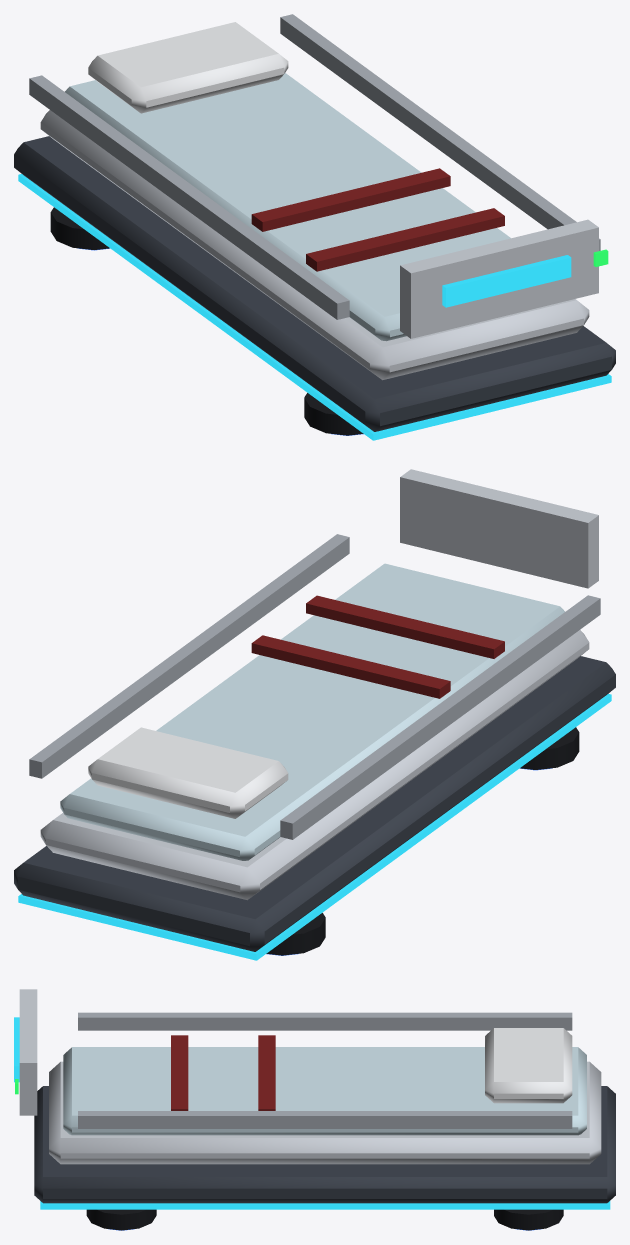
File: medsupply_hover_stretcher.glb
The picture shows the model from 3 angles, top to bottom: view 1: azimuth 30°, elevation 25°; view 2: azimuth 150°, elevation 25°; view 3: azimuth 270°, elevation 25°; orthographic projection. The views are drawn at different scales.
Parts seen in each view (by area): view 1: medsupply_hover_stretcher; view 2: medsupply_hover_stretcher; view 3: medsupply_hover_stretcher.
Part boxes in pixels (x1,y1,x2,y2): medsupply_hover_stretcher: [14, 14, 615, 440]; medsupply_hover_stretcher: [14, 469, 615, 960]; medsupply_hover_stretcher: [14, 989, 615, 1230].
Size of the model in its own units: 0.84 by 0.595 by 2.07.
